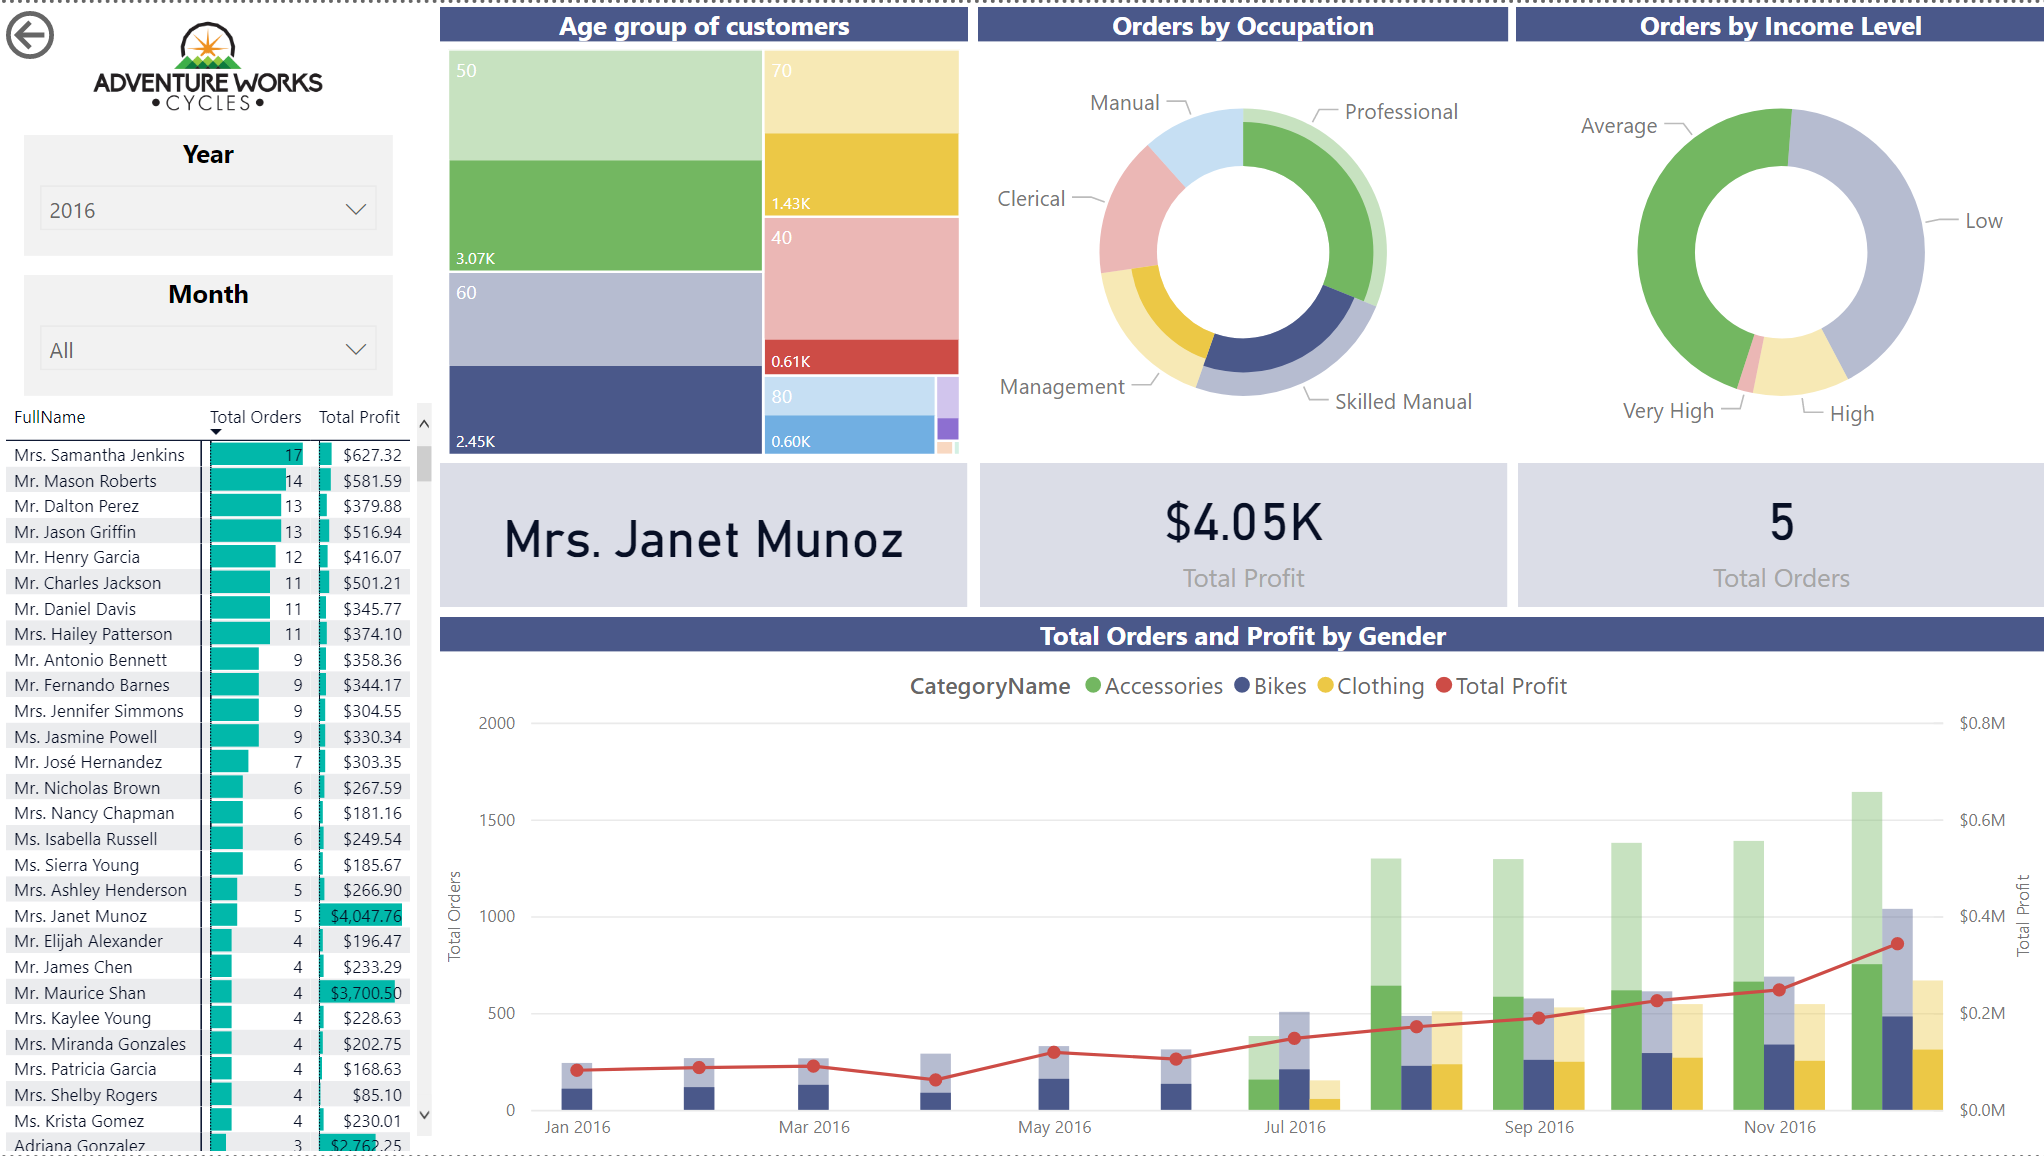

The dashboard page shown, as its layout file describes it:
{"tool":"powerbi","page":{"name":"Customber Details","canvas":[1280,720],"ordinal":2},"visuals":[{"type":"image","box":[0,2.9,261.8,74.2],"z":0},{"type":"donutChart","title":"Orders by Occupation","fields":{"Category":["AW_Customer_Lookup.Occupation"],"Y":["AW_Sales.Total Orders"]},"box":[612.5,2.4,331.3,284.9],"z":1000},{"type":"treemap","title":"Age group of customers","fields":{"Group":["AW_Customer_Lookup.Current Age (bins)"],"Values":["CountNonNull(AW_Customer_Lookup.CustomerKey)"]},"box":[276.3,2.4,330.1,284.9],"z":2000},{"type":"actionButton","box":[0,0,100,40],"z":3000},{"type":"lineClusteredColumnComboChart","title":"Total Orders and Profit by Gender","fields":{"Category":["AW_Calendar_Lookup.Start of Month"],"Y":["AW_Sales.Total Orders"],"Series":["AW_Customer_Lookup.Gender"],"Y2":["AW_Sales.Total Profit"]},"box":[276.3,383.9,1003.7,336],"z":4000},{"type":"slicer","title":"Year","fields":{"Values":["AW_Calendar_Lookup.Year"]},"box":[16.2,82.7,230.3,75.3],"z":5000},{"type":"slicer","title":"Month","fields":{"Values":["AW_Calendar_Lookup.Month Name"]},"box":[16.2,169.8,230.3,75.3],"z":6000},{"type":"donutChart","title":"Orders by Income Level","fields":{"Y":["AW_Sales.Total Orders"],"Category":["AW_Customer_Lookup.IncomeLevel"]},"box":[948.7,2.4,331.3,284.9],"z":7000},{"type":"pivotTable","fields":{"Rows":["AW_Customer_Lookup.FullName"],"Values":["AW_Sales.Total Orders","AW_Sales.Total Profit"]},"box":[0,245.1,276.1,476.9],"z":8000},{"type":"card","fields":{"Values":["Min(AW_Customer_Lookup.FullName)"]},"box":[276.5,287.5,329.6,90],"z":9000},{"type":"card","fields":{"Values":["AW_Sales.Total Profit"]},"box":[613.4,287.5,329.6,90],"z":10000},{"type":"card","fields":{"Values":["AW_Sales.Total Orders"]},"box":[950.4,287.5,329.6,90],"z":11000}]}

Visuals, with their boxes in screenshot pixels (x1, y1, x2, y2), scaled from the page's 1280x720 canvas onto the 2044x1156 screenshot:
image: [x1=0, y1=5, x2=418, y2=124]
"Orders by Occupation" donutChart: [x1=978, y1=4, x2=1507, y2=461]
"Age group of customers" treemap: [x1=441, y1=4, x2=968, y2=461]
actionButton: [x1=0, y1=0, x2=160, y2=64]
"Total Orders and Profit by Gender" lineClusteredColumnComboChart: [x1=441, y1=616, x2=2043, y2=1155]
"Year" slicer: [x1=26, y1=133, x2=394, y2=254]
"Month" slicer: [x1=26, y1=273, x2=394, y2=394]
"Orders by Income Level" donutChart: [x1=1515, y1=4, x2=2043, y2=461]
pivotTable - AW_Customer_Lookup.FullName x AW_Sales.Total Orders: [x1=0, y1=394, x2=441, y2=1155]
card - Min(AW_Customer_Lookup.FullName): [x1=442, y1=462, x2=968, y2=606]
card - AW_Sales.Total Profit: [x1=980, y1=462, x2=1506, y2=606]
card - AW_Sales.Total Orders: [x1=1518, y1=462, x2=2043, y2=606]
